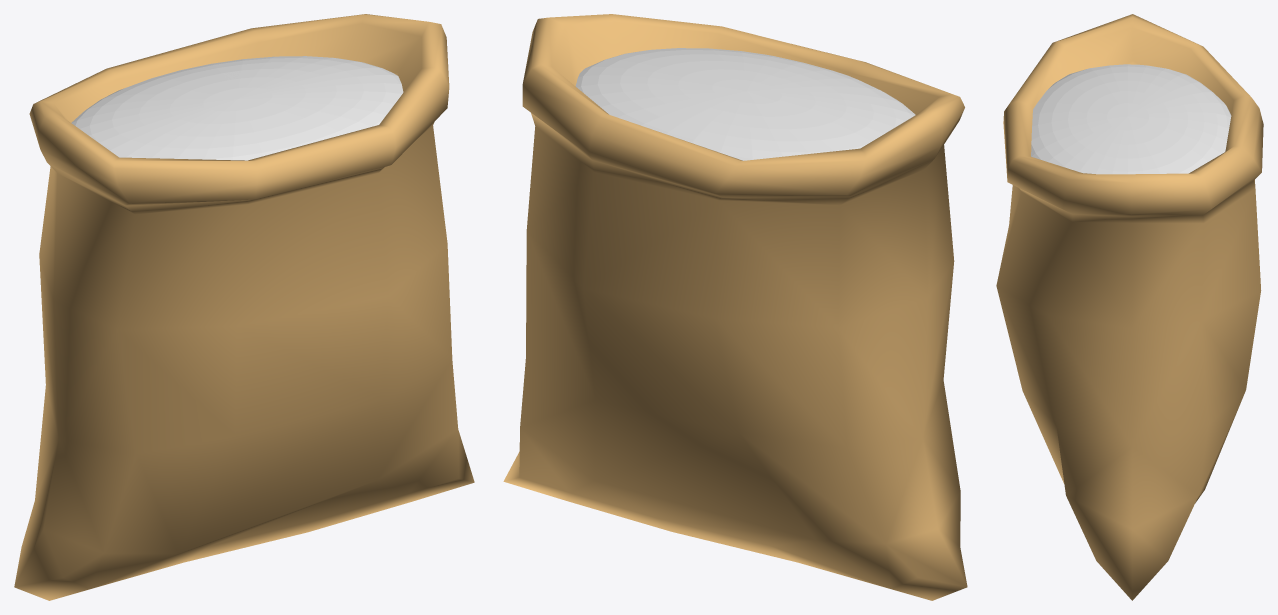
Rendered from flex_flour.fbx.
3 renders of one model, left to right at view 1: azimuth 30°, elevation 25°; view 2: azimuth 150°, elevation 25°; view 3: azimuth 270°, elevation 25°, orthographic. The views are drawn at different scales.
Parts seen in each view (by area): view 1: Bag, Sphere; view 2: Bag, Sphere; view 3: Bag, Sphere.
Boxes of the visible parts, bbox=[...] form: Bag: bbox=[14, 14, 474, 600]; Sphere: bbox=[71, 56, 403, 160]; Bag: bbox=[503, 14, 967, 600]; Sphere: bbox=[575, 48, 915, 160]; Bag: bbox=[996, 14, 1263, 600]; Sphere: bbox=[1031, 64, 1231, 174].
Size of the model in its own units: 311 by 313 by 181.
